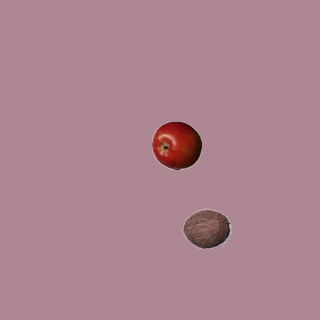Apple Braeburn: (151, 120, 201, 170)
Cocos: (181, 203, 231, 253)
